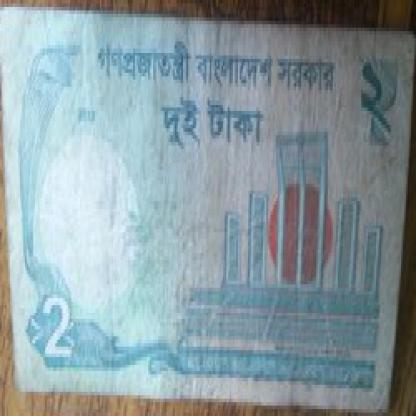two taka: (341, 45, 396, 170), (37, 295, 83, 371)
